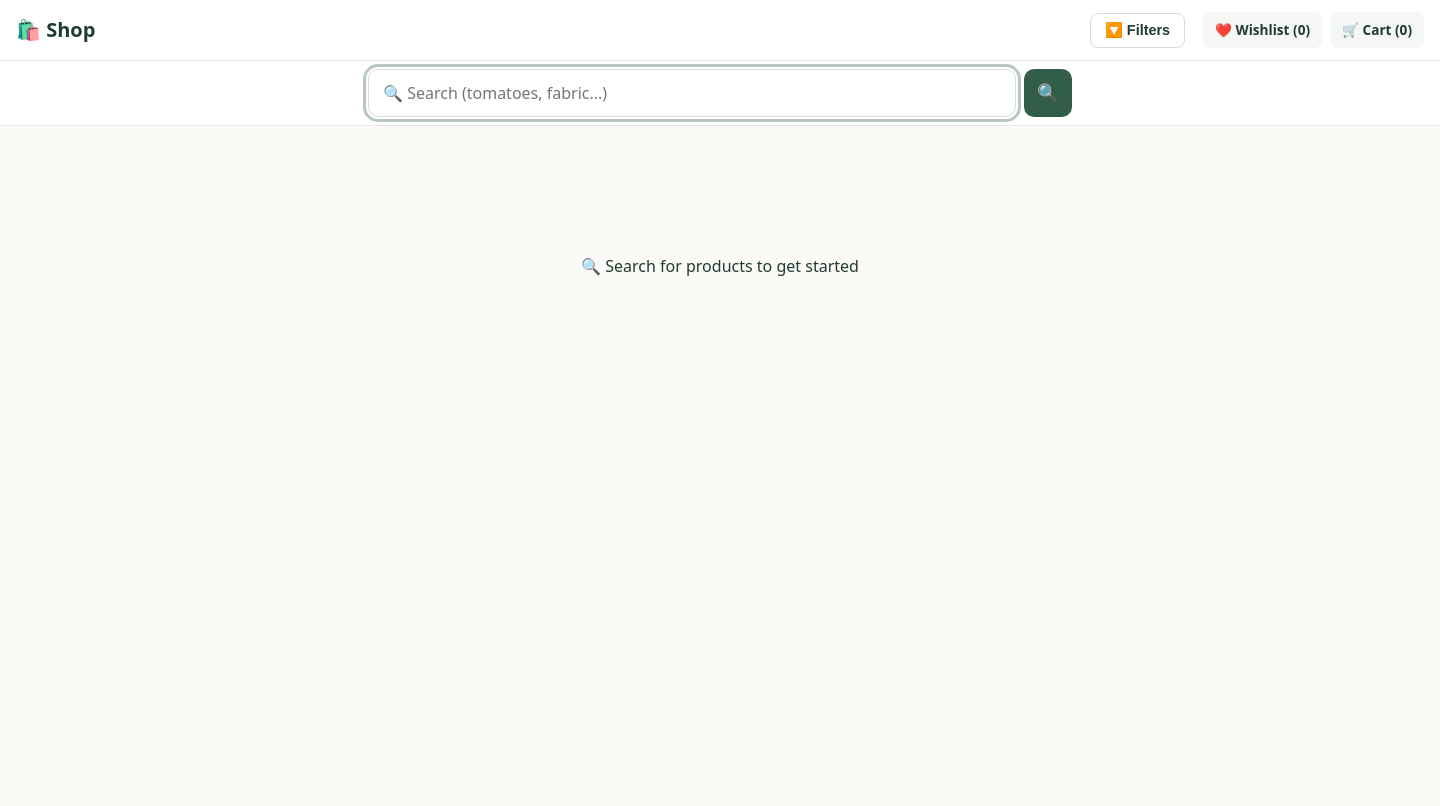
Scenario: minimal shopping page › applies filters to the current results without searching again
Type "orange" into the field named "Search products".
click(692, 93); type("orange")  # box [368,69,1016,117]
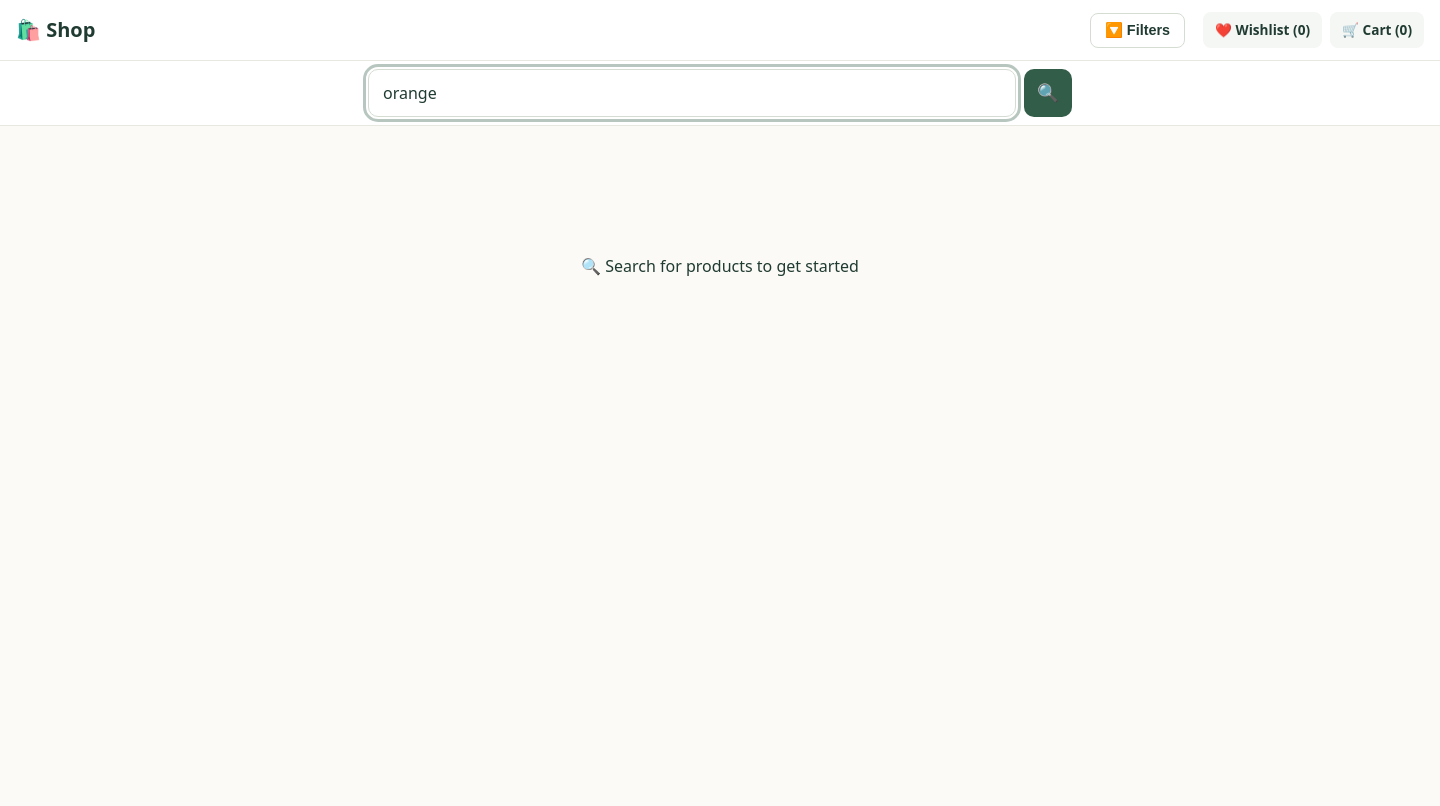
Submit the form, box [368,69,1072,117]
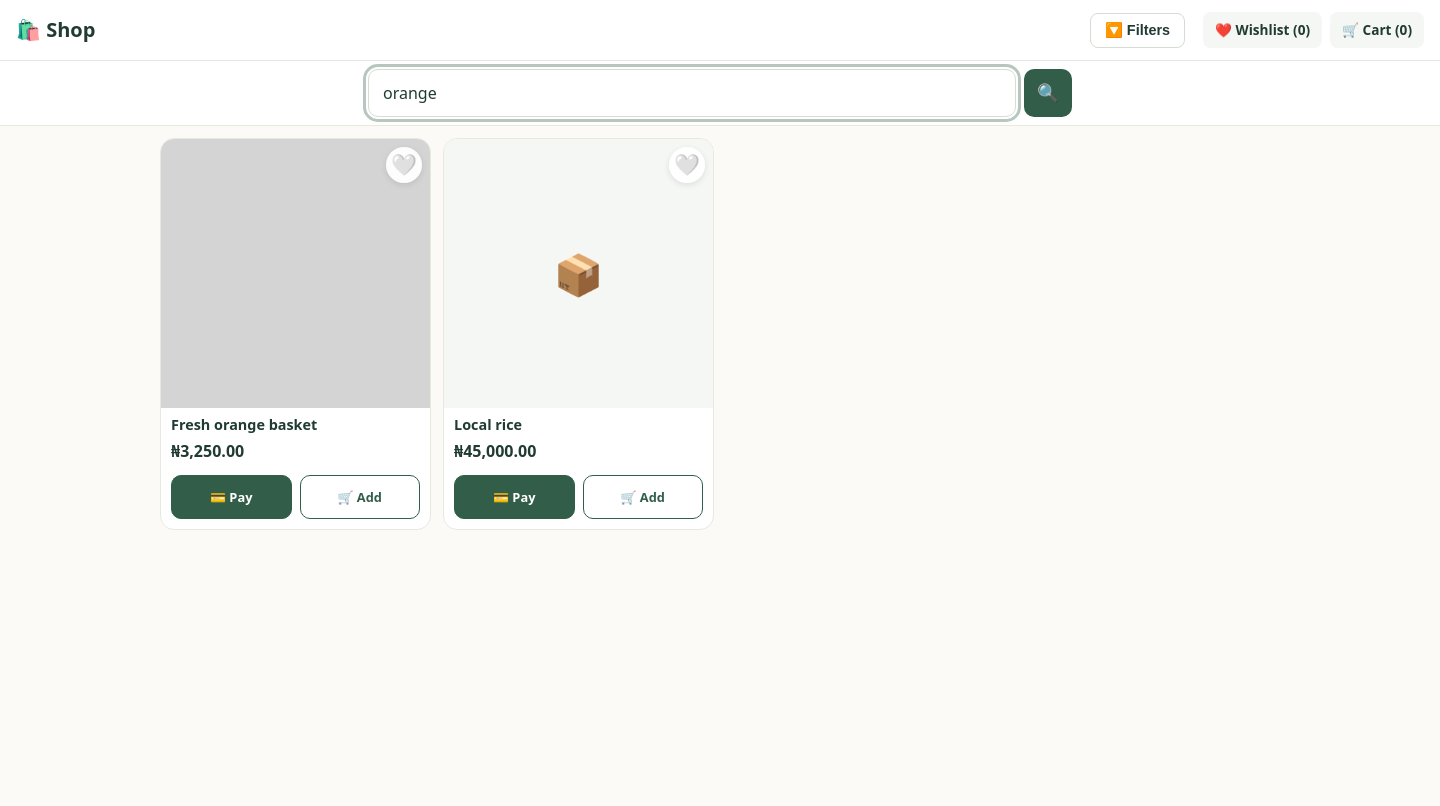
Expected: the heading "Fresh orange basket" is shown, [171,415,317,434]
Click the button "🔽 Filters".
click(1138, 30)  # box [1090,13,1185,48]
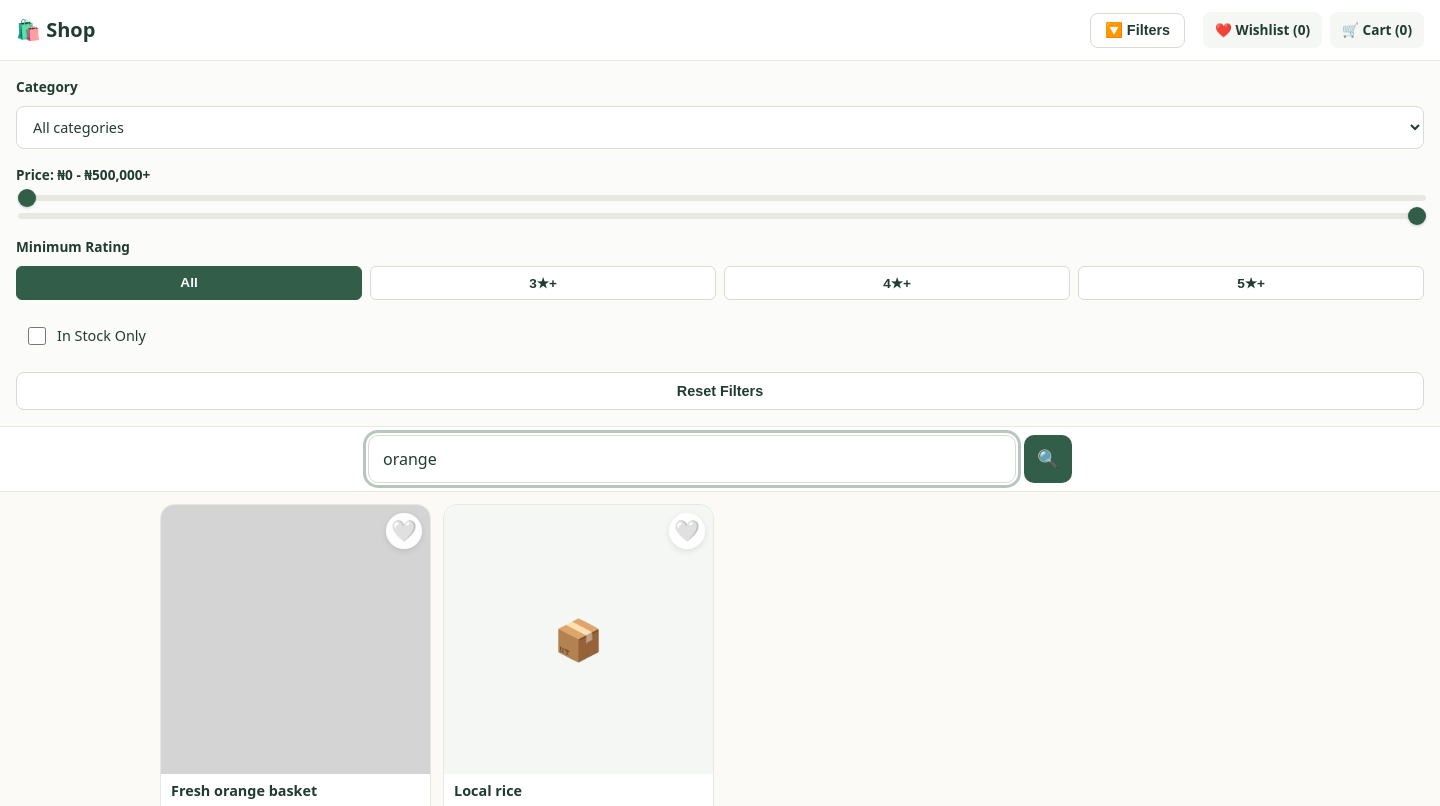
Click the checkbox labelled "In Stock Only".
click(37, 336)  # box [28,327,46,345]
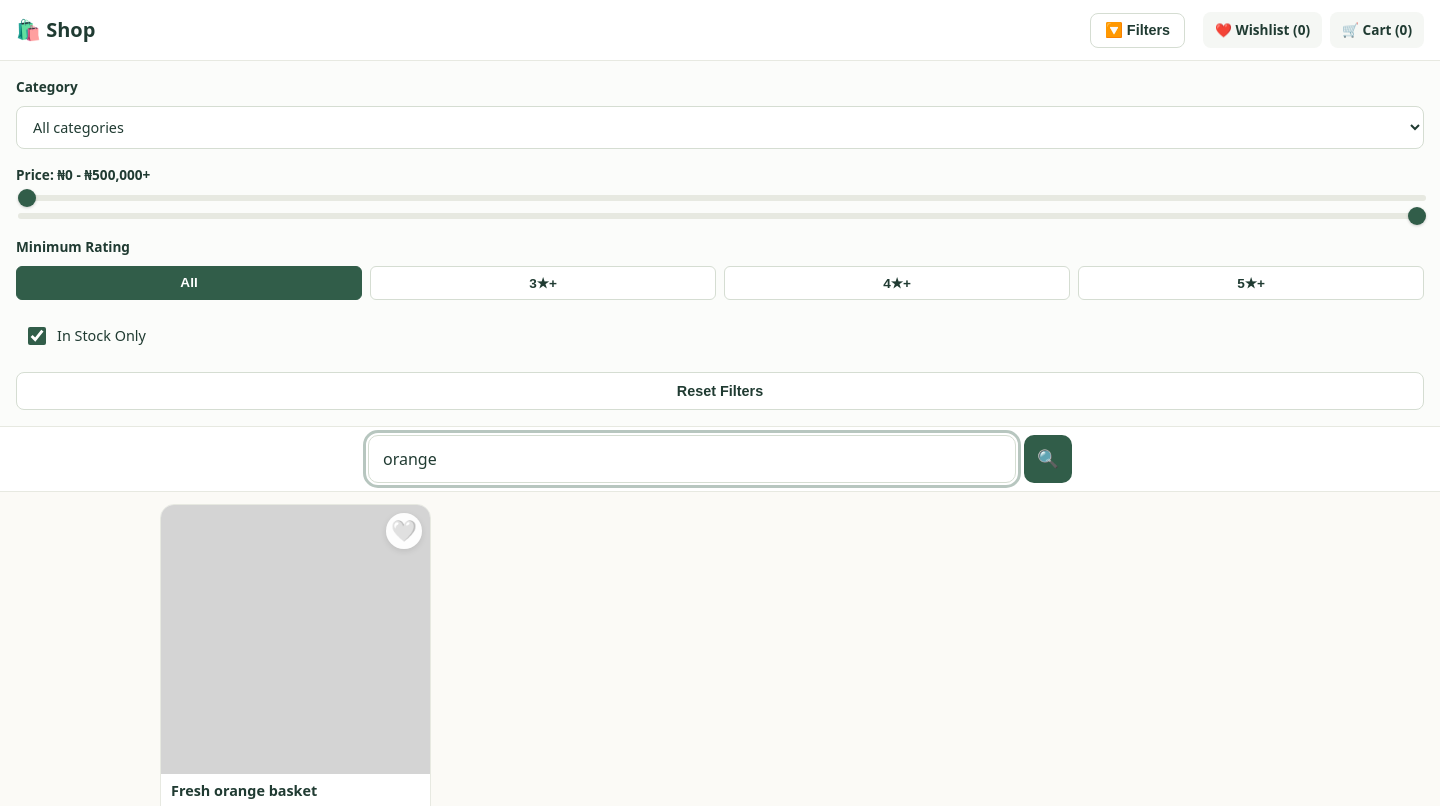
Expected: the heading "Fresh orange basket" is shown, [171,781,317,800]
Expected: the heading "Local rice" is gone
Click the checkbox labelled "In Stock Only".
click(37, 336)  # box [28,327,46,345]
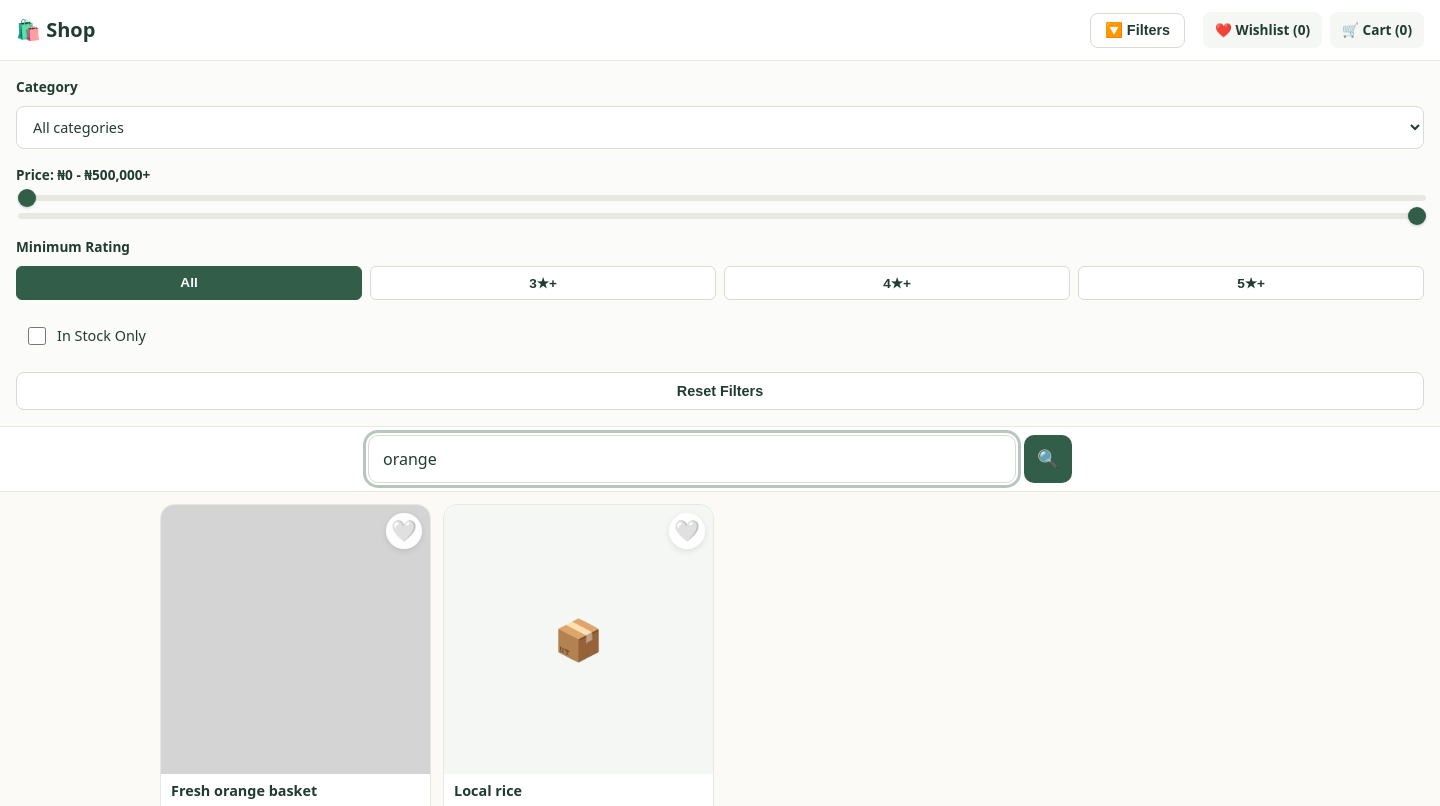
Select "Groceries" in the dropdown labelled "Category" at [720, 127], box [16,106,1424,149]
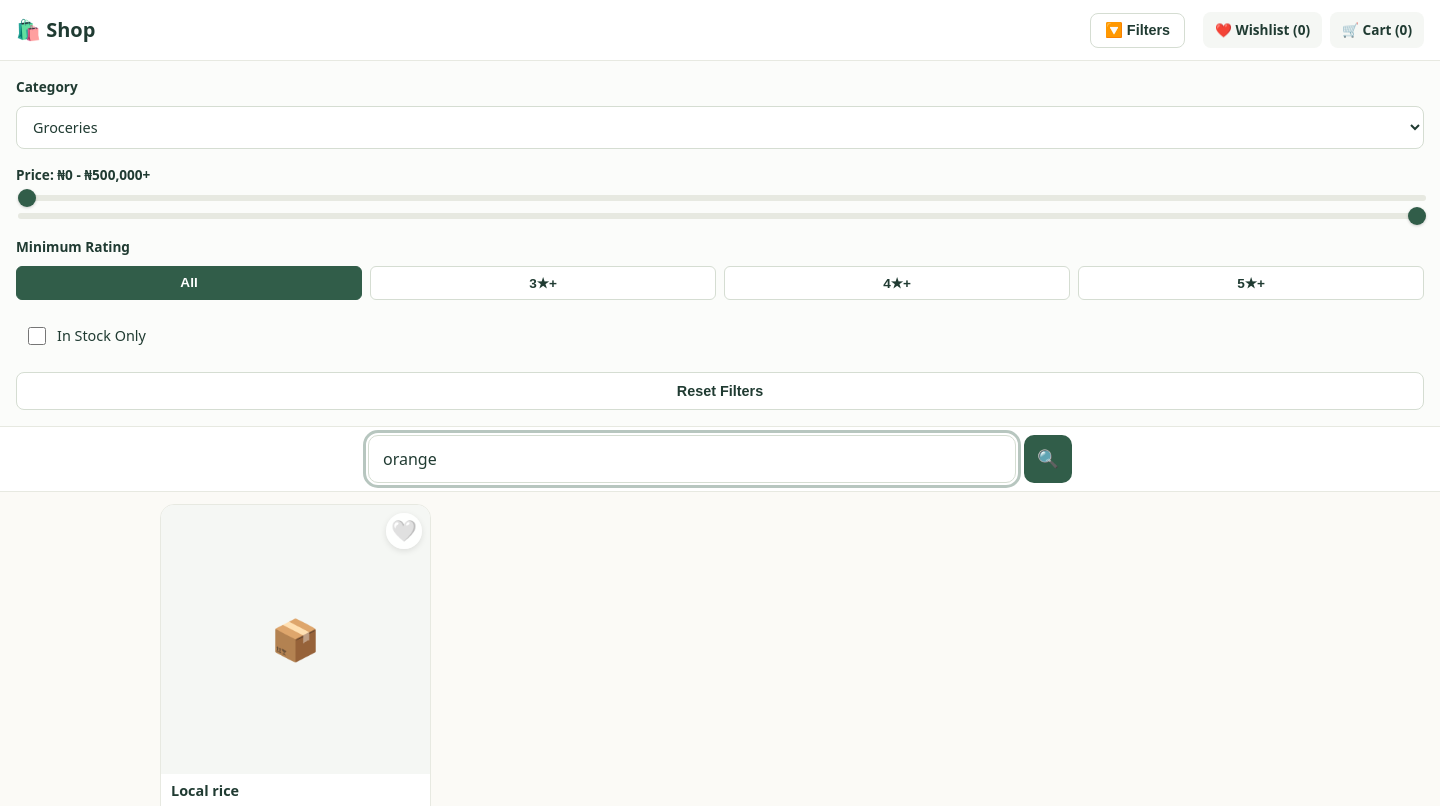
Expected: the heading "Local rice" is shown, [171,781,239,800]
Expected: the heading "Fresh orange basket" is gone
